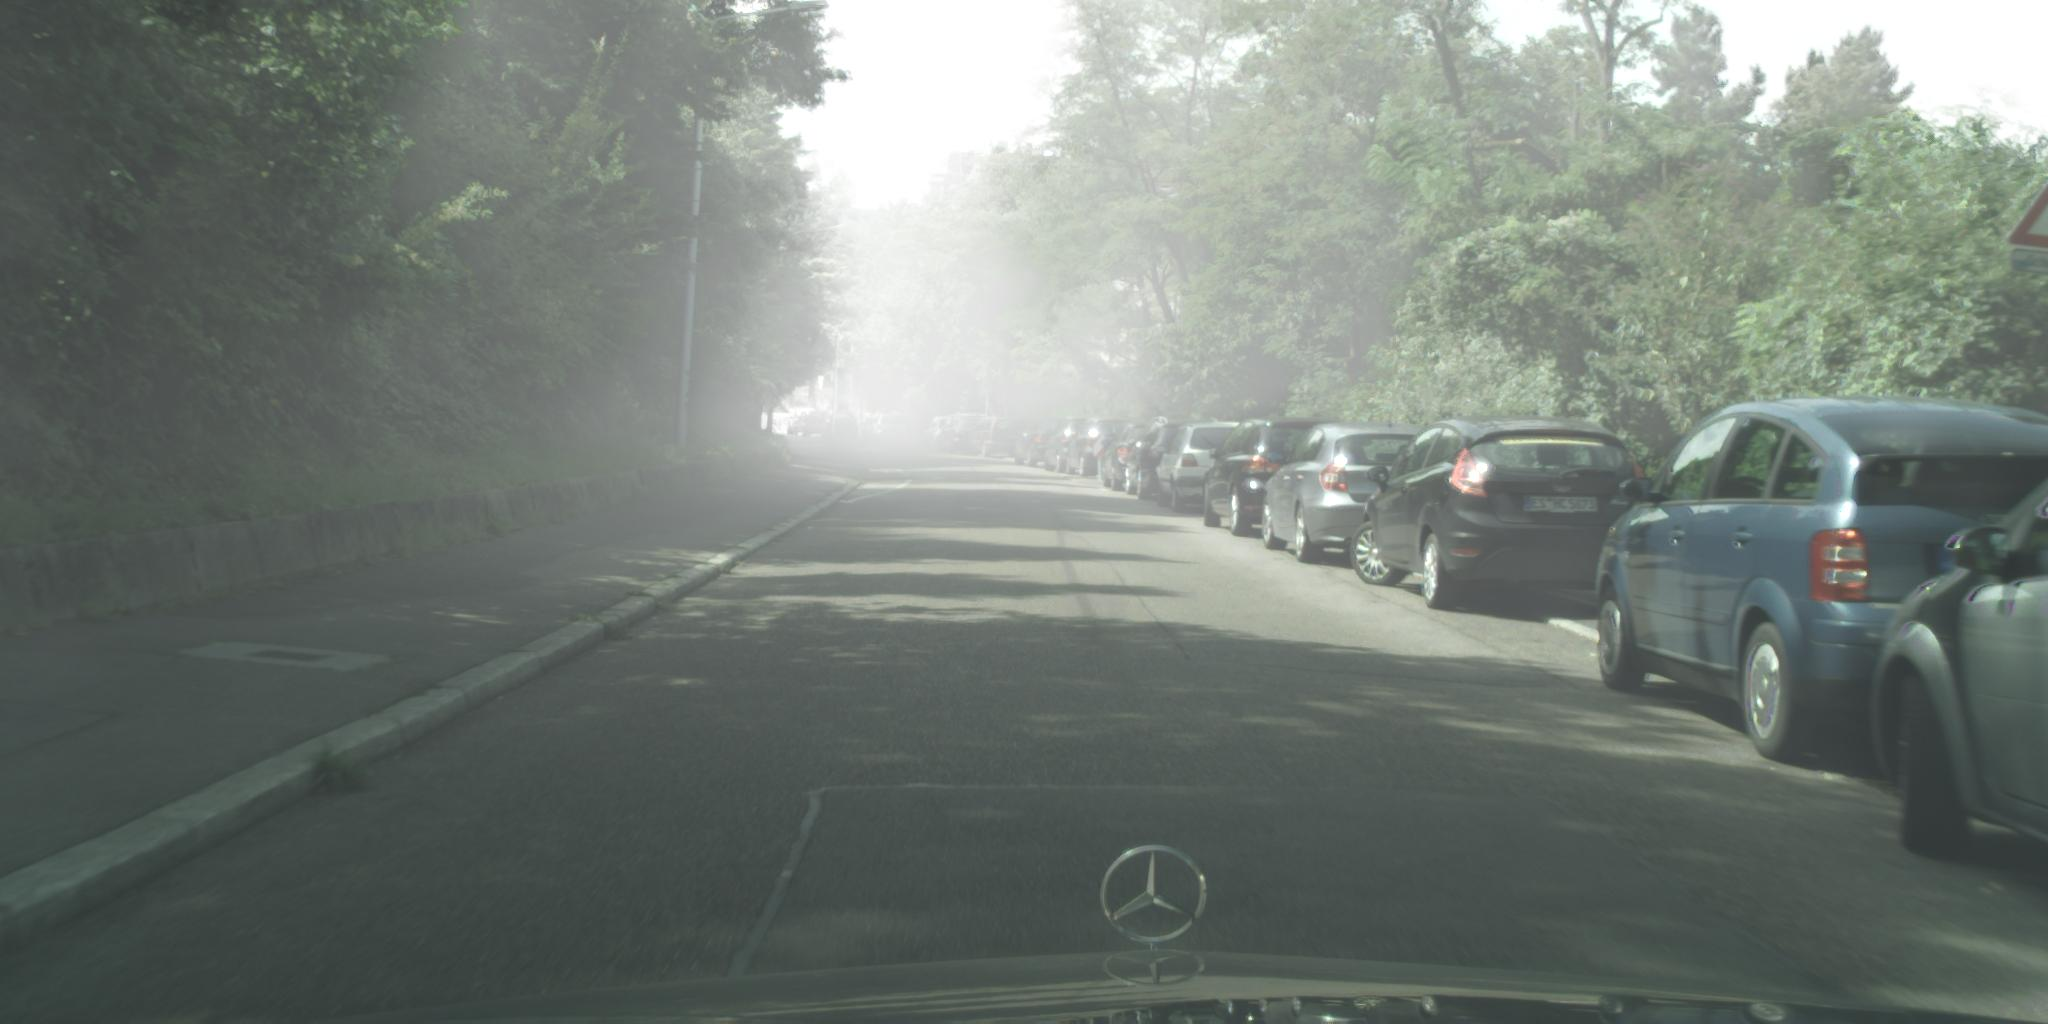car: (1596, 397, 2047, 765), (1870, 483, 2045, 861), (1351, 415, 1652, 613), (1263, 414, 1429, 567), (1204, 418, 1341, 538), (1156, 422, 1245, 515), (1125, 417, 1221, 502), (1066, 415, 1128, 477), (1101, 424, 1157, 492), (1045, 415, 1098, 475), (967, 415, 1031, 458), (1015, 419, 1064, 469), (936, 415, 991, 455), (862, 415, 910, 447), (923, 417, 956, 453), (823, 413, 859, 441), (801, 411, 831, 439), (792, 410, 818, 436), (788, 411, 801, 436)
